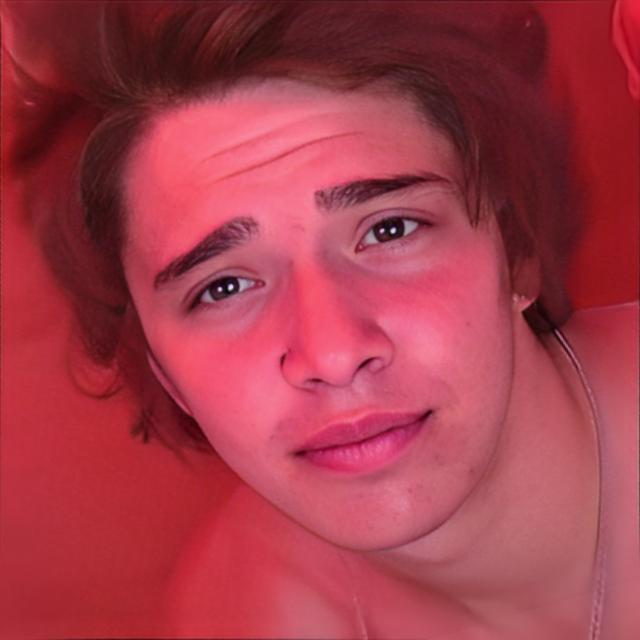happy: (123, 66, 510, 546)
